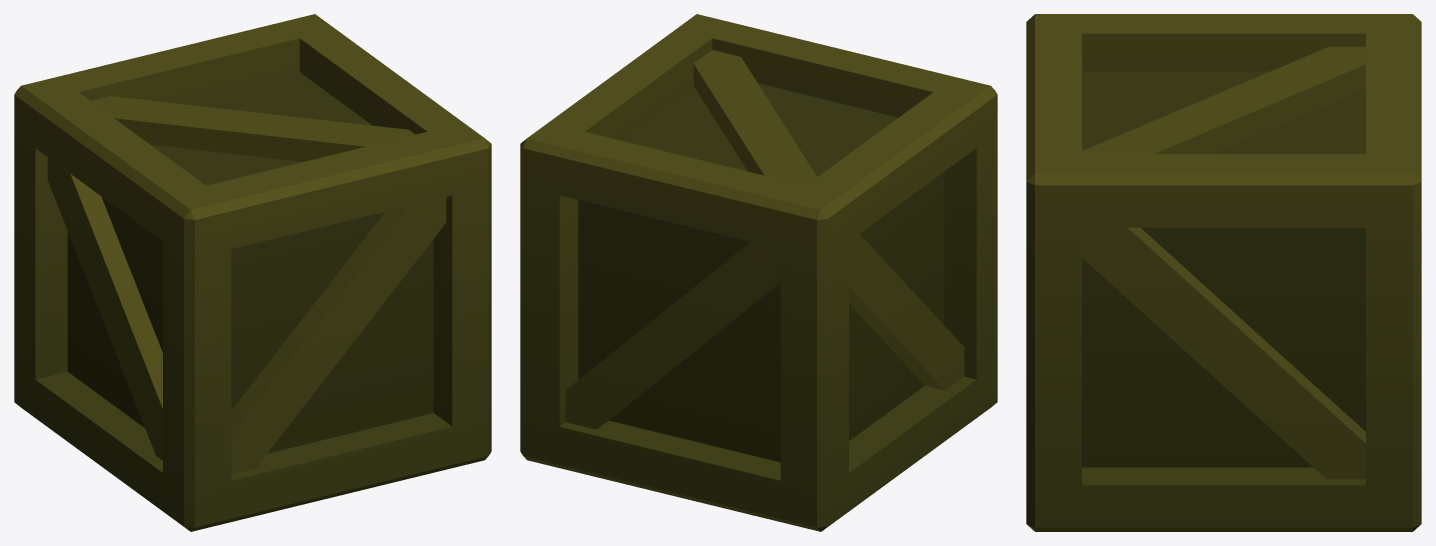
File: Crate_Small_0_1.fbx
3 renders of one model, left to right at view 1: azimuth 30°, elevation 25°; view 2: azimuth 150°, elevation 25°; view 3: azimuth 270°, elevation 25°, orthographic. The views are drawn at different scales.
Visible parts, largest first — view 1: Crate_Small_0_1; view 2: Crate_Small_0_1; view 3: Crate_Small_0_1.
Boxes of the visible parts, bbox=[...] form: Crate_Small_0_1: bbox=[14, 14, 491, 531]; Crate_Small_0_1: bbox=[520, 14, 997, 531]; Crate_Small_0_1: bbox=[1026, 14, 1421, 531].
Bounding box in the file's own units: 100 × 100 × 100.
